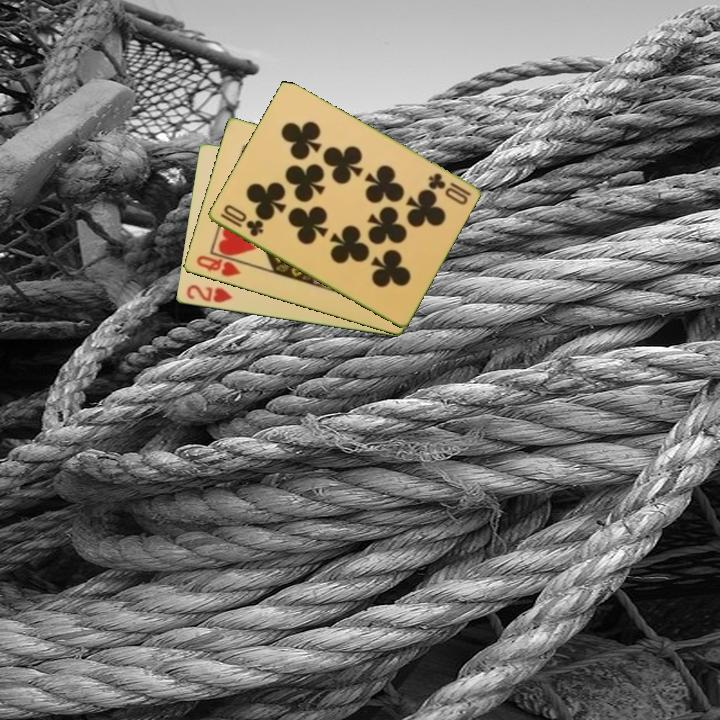10c: (216, 201, 266, 240), (424, 169, 473, 199)
2h: (182, 281, 235, 306)
Qh: (192, 252, 244, 280)
